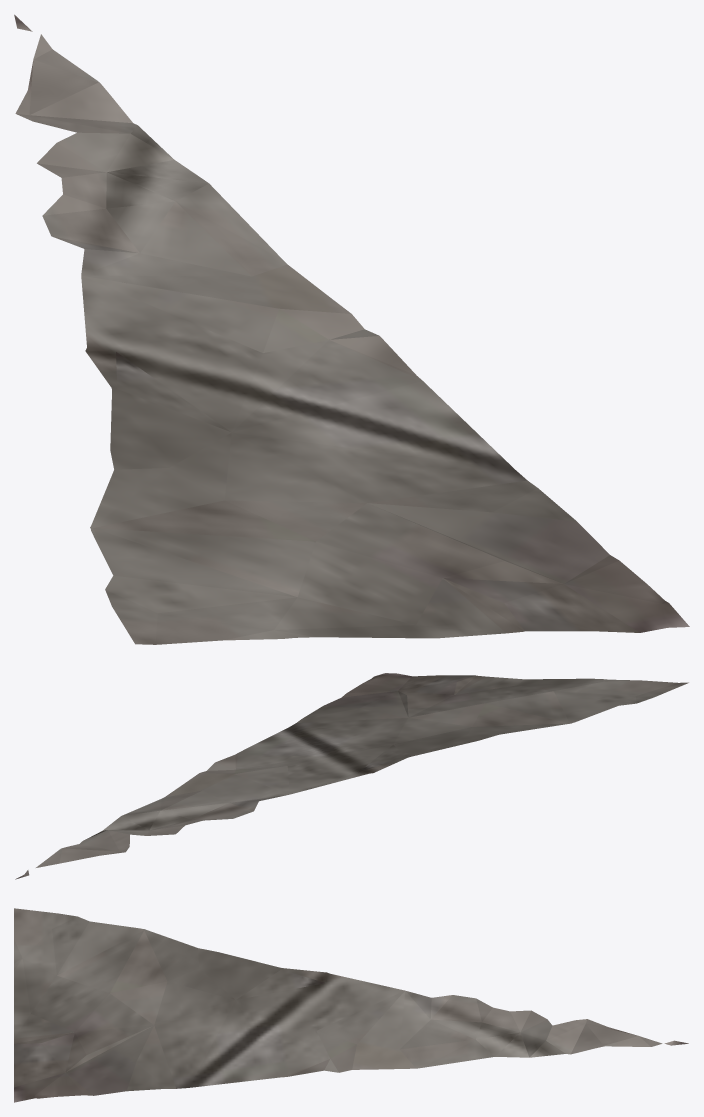
The picture shows the model from 3 angles, top to bottom: view 1: azimuth 30°, elevation 25°; view 2: azimuth 150°, elevation 25°; view 3: azimuth 270°, elevation 25°; orthographic projection. The views are drawn at different scales.
Size of the model in its own units: 0.2524 by 0.0513 by 0.5327.
Materials: 1 (1 with a texture image).
